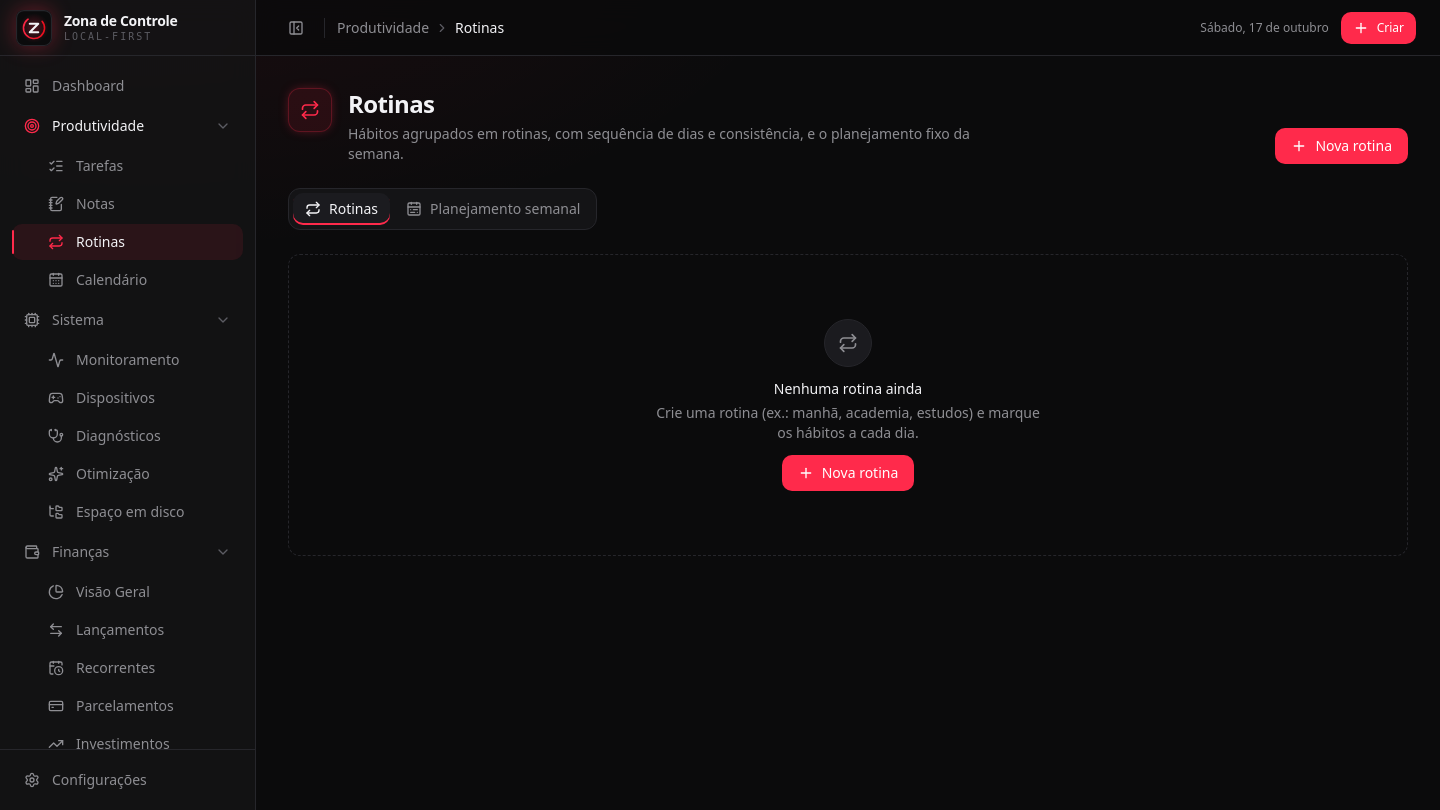
Test case: planejamento semanal (aba de Rotinas) › abre pela aba e cria um bloco para vários dias
Step 1. Click the tab "Planejamento semanal" → [493, 209], box [394,193,592,225]
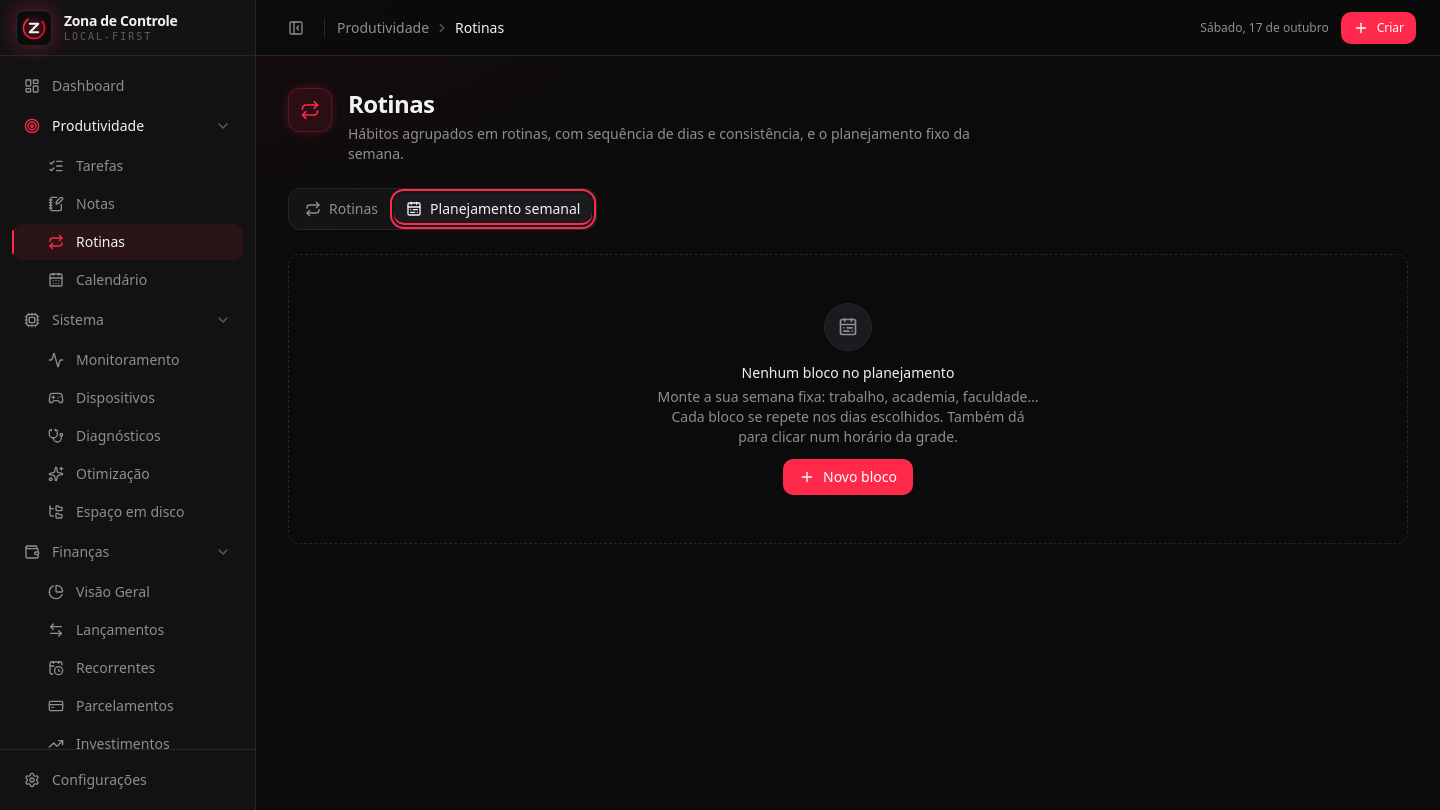
Result: the text "Nenhum bloco no planejamento" is shown at [742,363,954,382]
Step 2. Click the button "Novo bloco" → [848, 477], box [783,459,913,495]
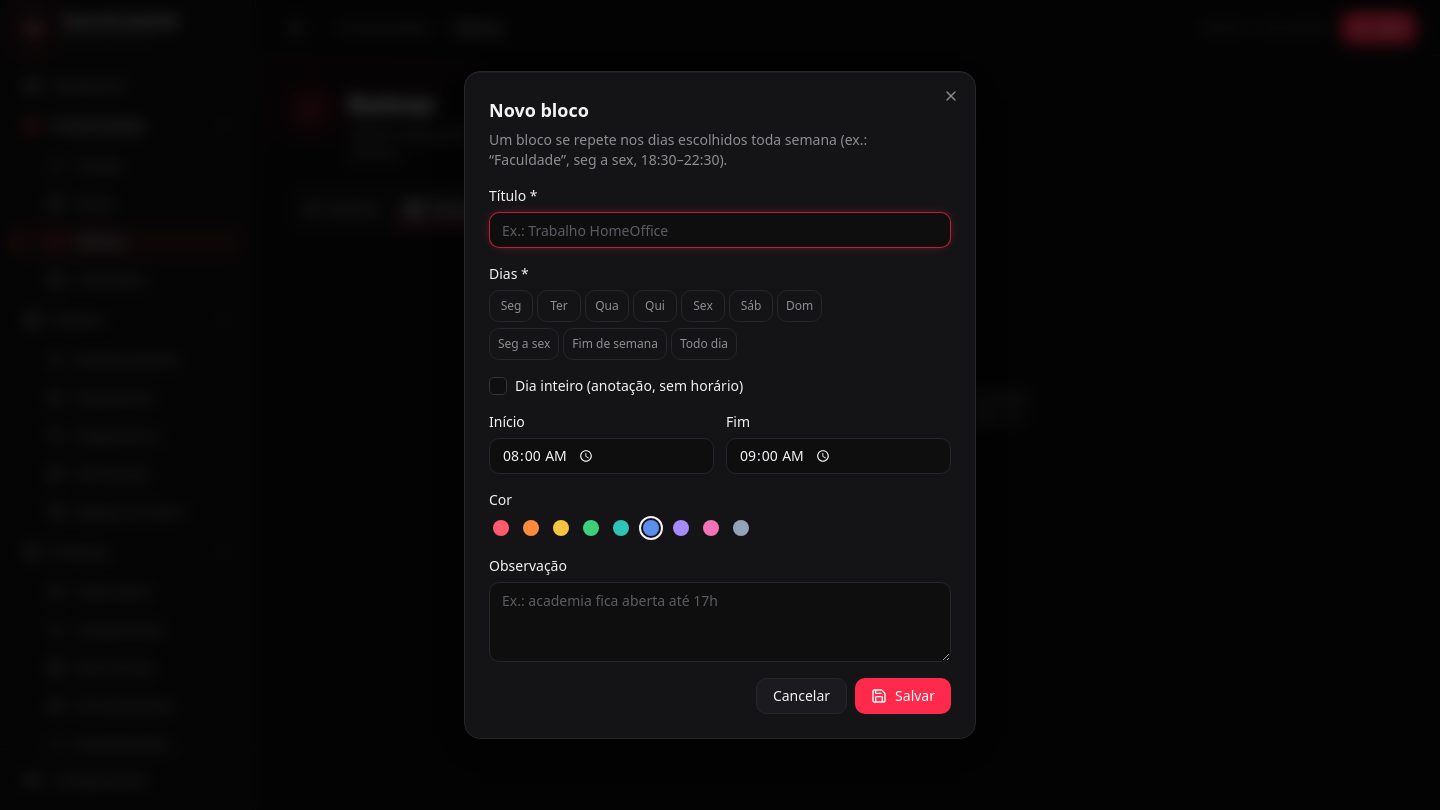
Step 3. Click the button "Salvar" → [903, 696], box [855,678,951,714]
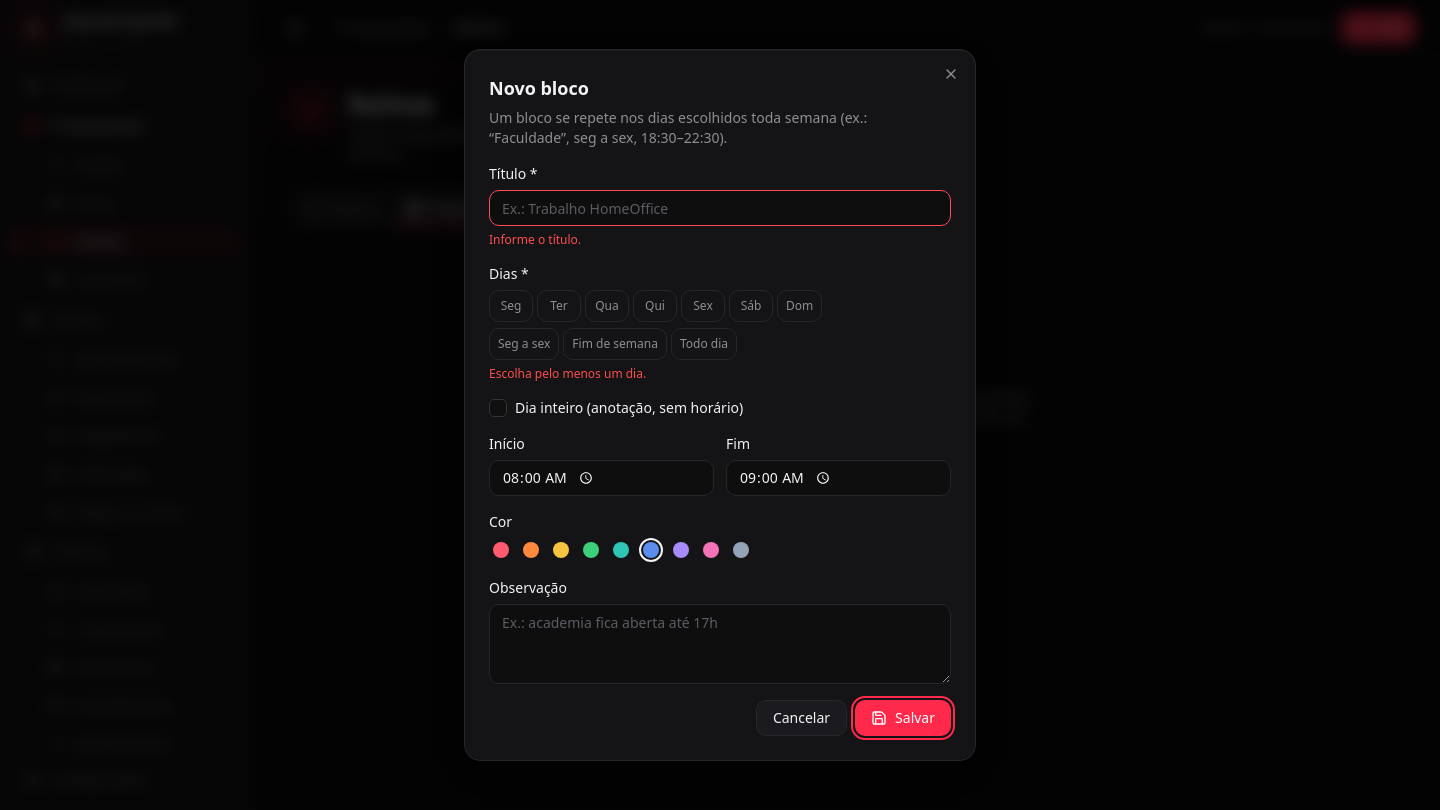
Result: the text "Informe o título." is shown at [489,231,581,248]
Result: the text "Escolha pelo menos um dia." is shown at [489,365,646,382]
Step 4. Type "Faculdade" into the field labelled "Título *" → [720, 208], box [489,190,951,226]
Step 5. Click the button "Seg a sex" → [524, 344], box [489,328,559,360]
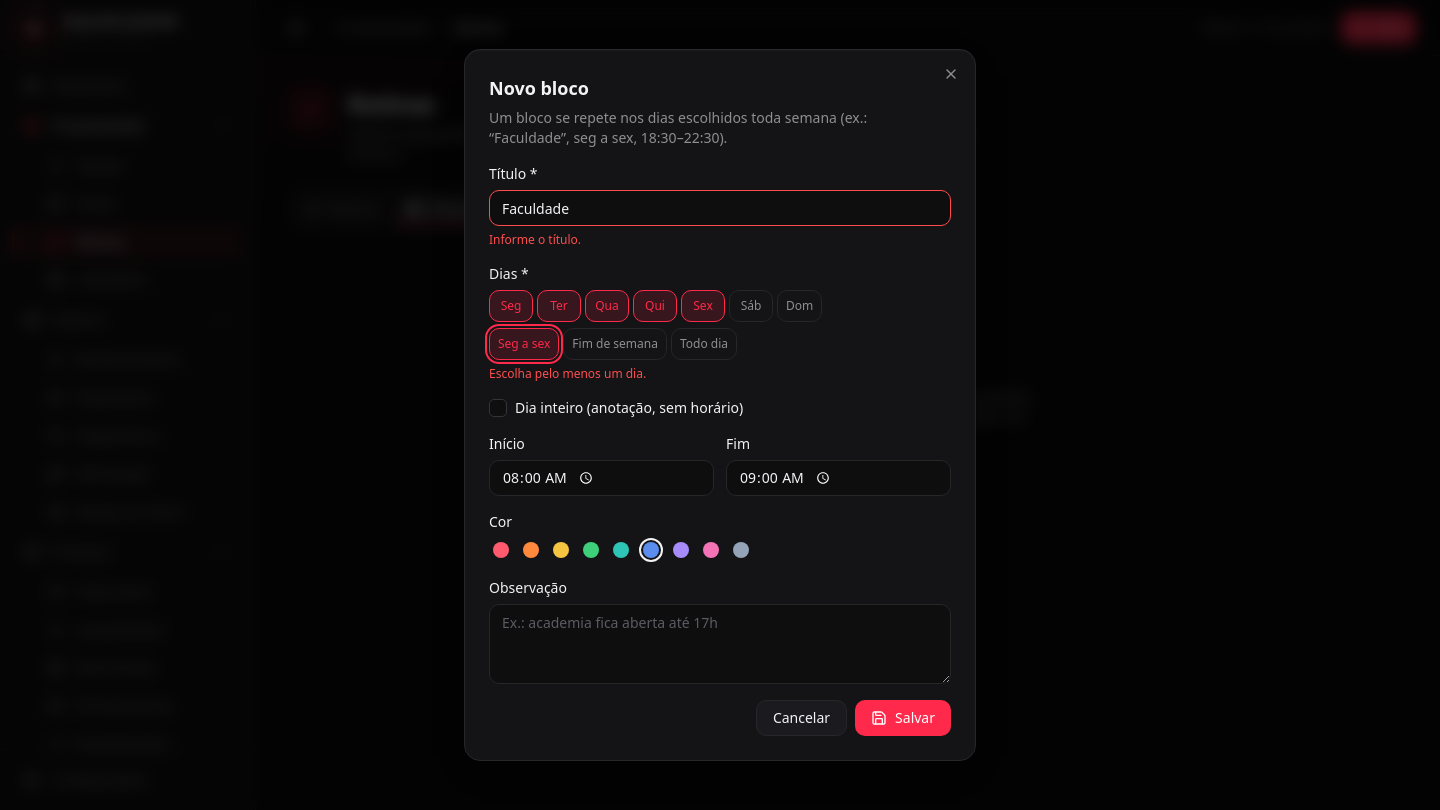
Step 6. Replace the text in the time field labelled "Início" with "18:30" → [602, 478], box [489,460,714,496]
Step 7. Replace the text in the time field labelled "Fim" with "22:30" → [838, 478], box [726,460,951,496]
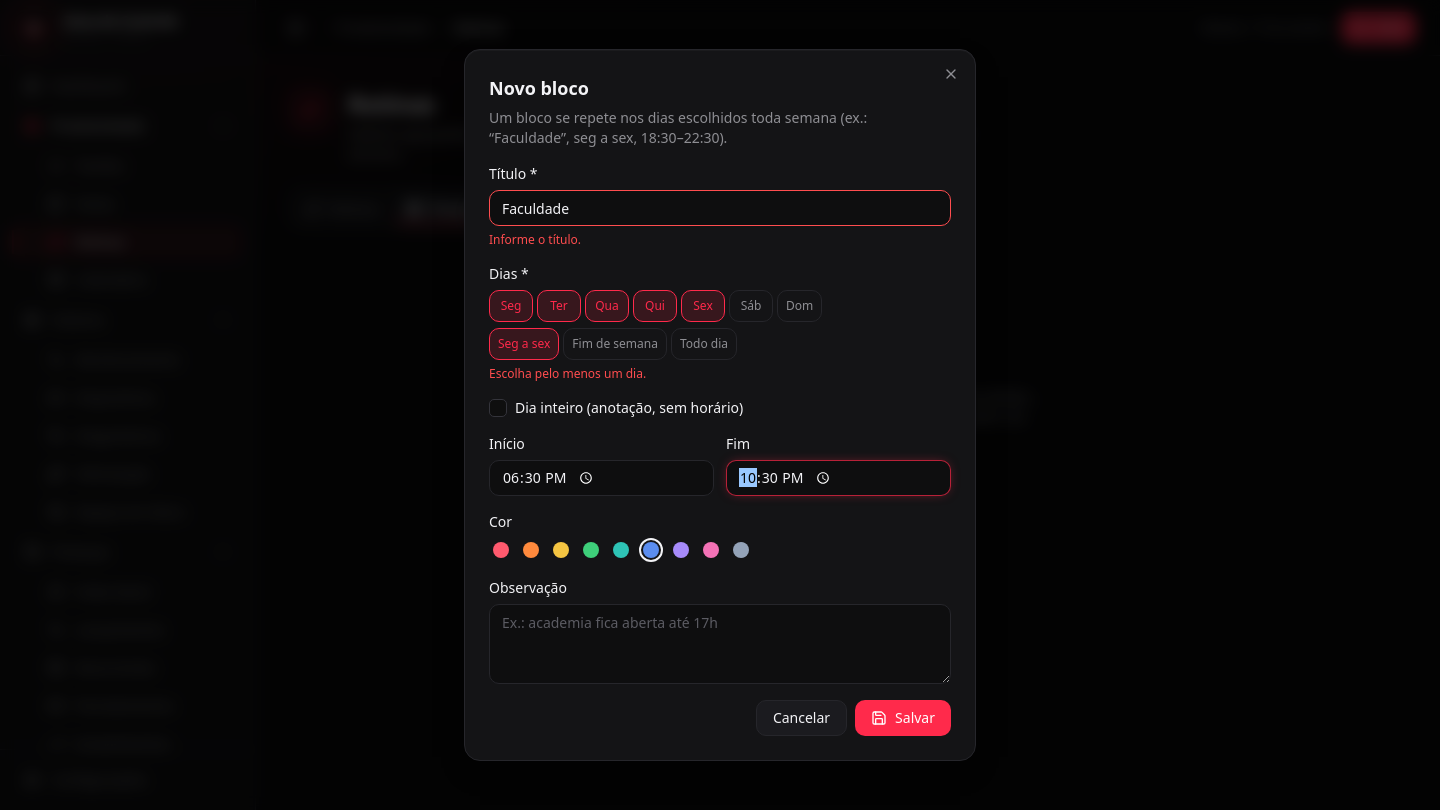
Step 8. Click the button "Salvar" → [903, 718], box [855,700,951,736]
(page scrolled)
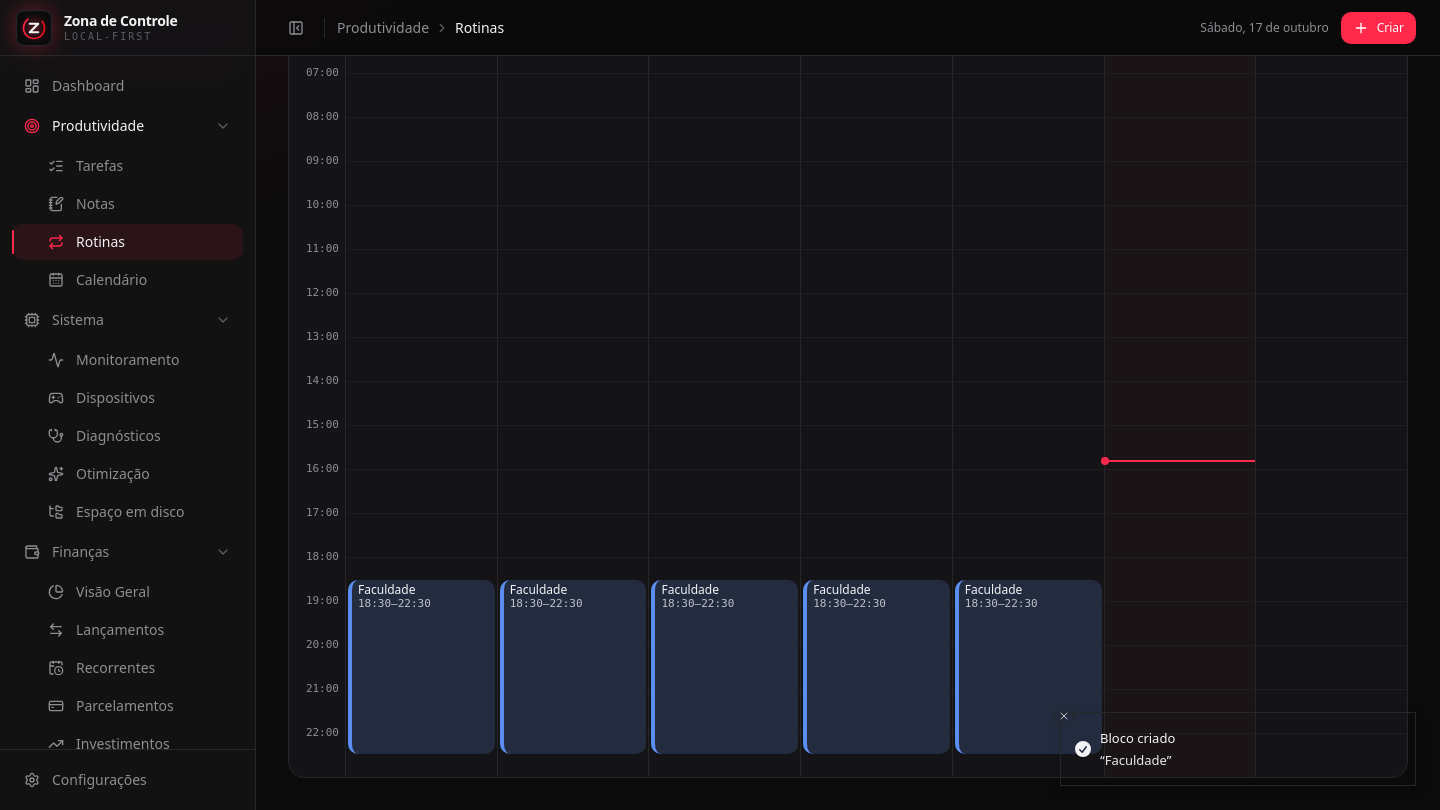
Result: the number of buttons "Faculdade 18:30–22:30" is 5 at [348,580,495,754]; [500,580,646,754]; [651,580,798,754]; [803,580,950,754]; [955,580,1102,754]
Result: the button with aria-label "Faculdade, sexta-feira, 18:30–22:30" is shown at [955,580,1102,754]
